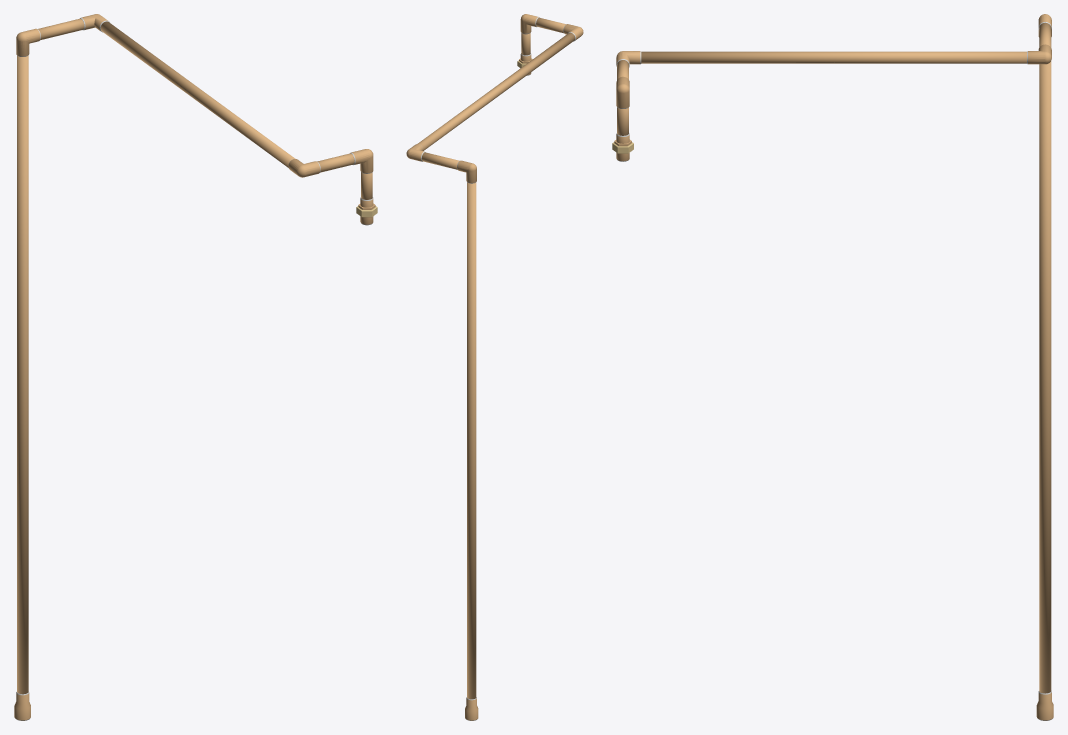
File: slab_pipes_supply__water-city_filter_and_softener-yes_and_plumbing-copper.glb
The picture shows the model from 3 angles, left to right: view 1: azimuth 30°, elevation 25°; view 2: azimuth 150°, elevation 25°; view 3: azimuth 270°, elevation 25°; orthographic projection. The views are drawn at different scales.
Visible parts, largest first — view 1: pipe_supply_to_softener__copper; view 2: pipe_supply_to_softener__copper, fit_elbow_pipe_supply_to_softener__copper_1; view 3: pipe_supply_to_softener__copper.
Part boxes in pixels (box(x1,y1,x2,y2)): pipe_supply_to_softener__copper: box(17, 18, 372, 694); pipe_supply_to_softener__copper: box(417, 17, 575, 699); fit_elbow_pipe_supply_to_softener__copper_1: box(457, 160, 476, 183); pipe_supply_to_softener__copper: box(617, 23, 1051, 693).
Size of the model in its own units: 0.3362 by 1.43 by 0.8149.
